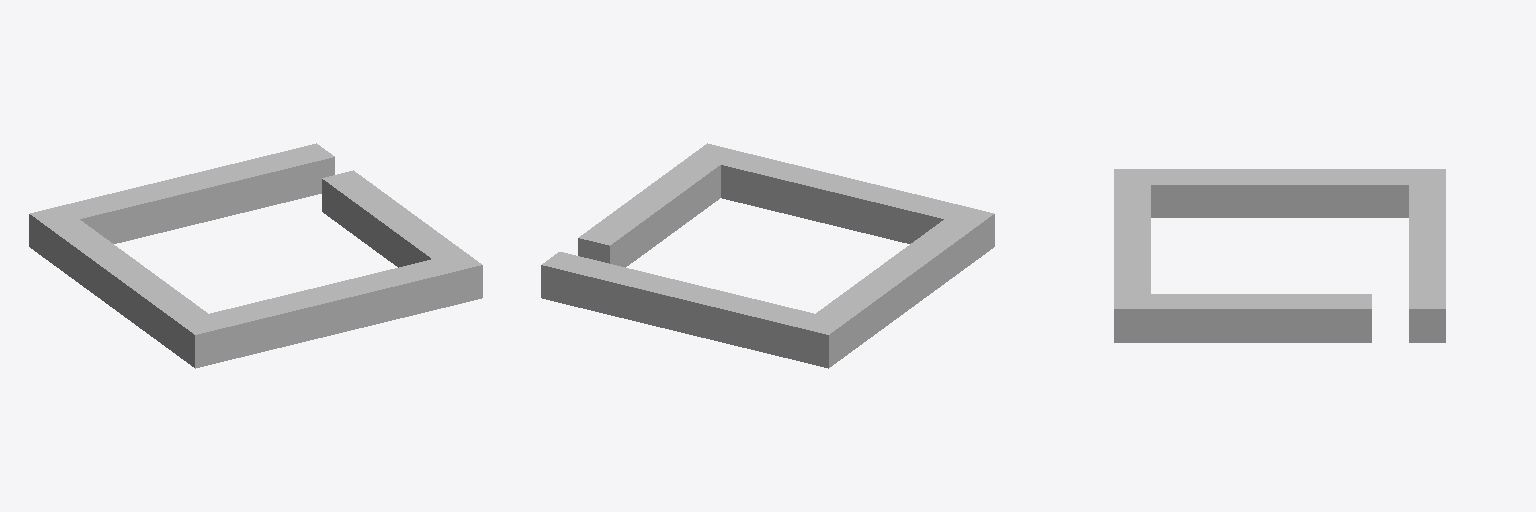
File: map0.obj
The picture shows the model from 3 angles: view 1: azimuth 30°, elevation 25°; view 2: azimuth 150°, elevation 25°; view 3: azimuth 270°, elevation 25°; orthographic projection.
Parts seen in each view (by area): view 1: mergedBlocks; view 2: mergedBlocks; view 3: mergedBlocks.
Part boxes in pixels (x1,y1,x2,y2): mergedBlocks: (29, 143, 482, 368); mergedBlocks: (541, 143, 994, 368); mergedBlocks: (1114, 169, 1445, 342).
Size of the model in its own units: 9 by 1 by 9.